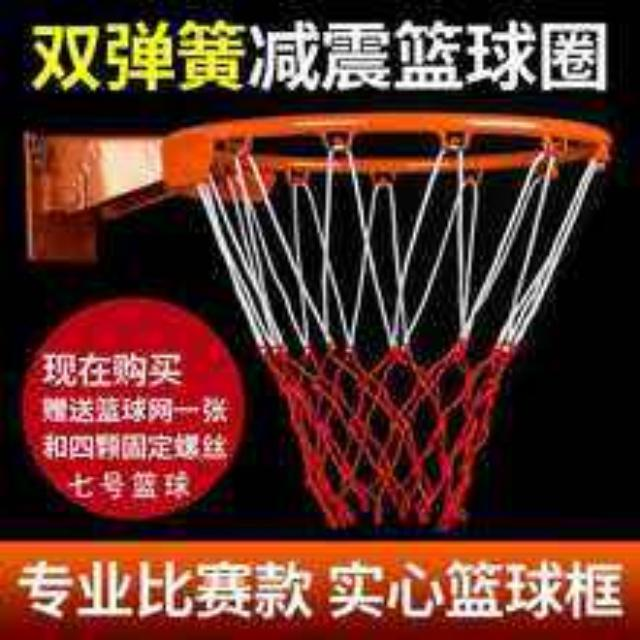rim: (162, 114, 612, 524)
